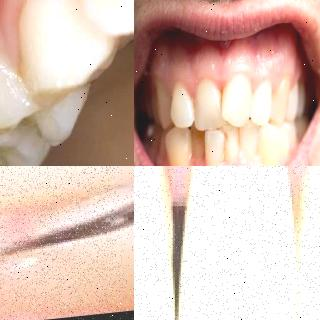calculus: (218, 134, 235, 166)
maligned: (190, 79, 224, 131), (220, 79, 253, 129), (166, 78, 194, 128), (162, 127, 194, 166), (258, 124, 284, 166), (203, 130, 226, 166)
